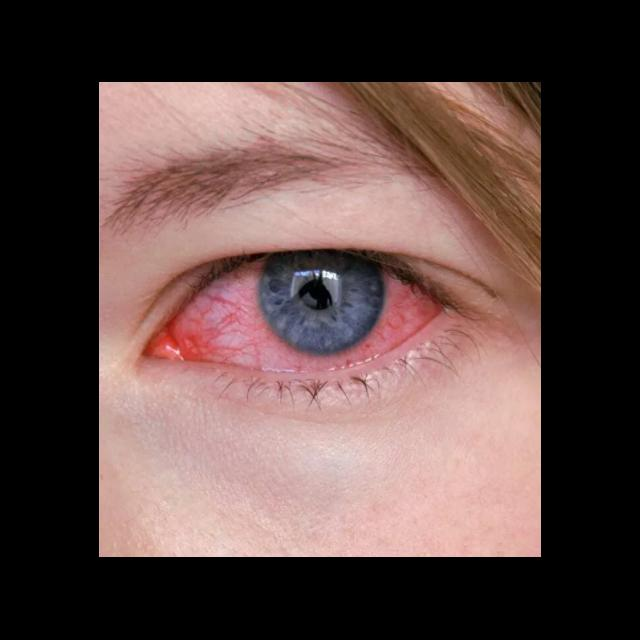eye: (176, 251, 443, 369)
iris: (262, 255, 386, 355)
